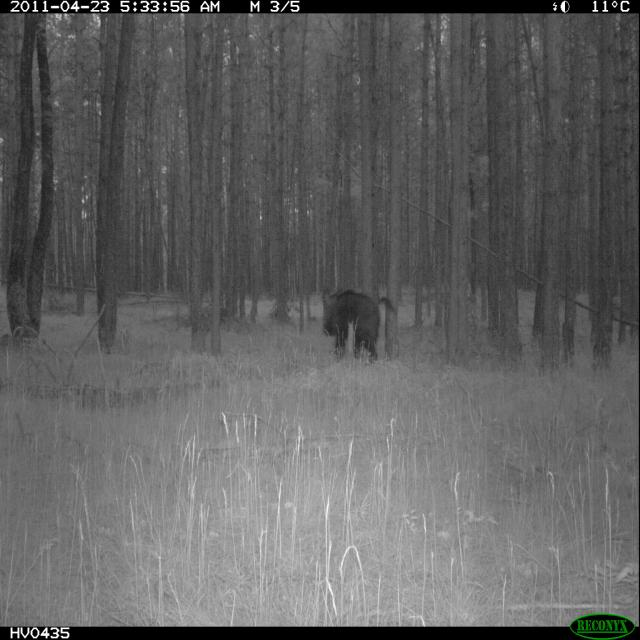boar: (308, 271, 399, 372)
